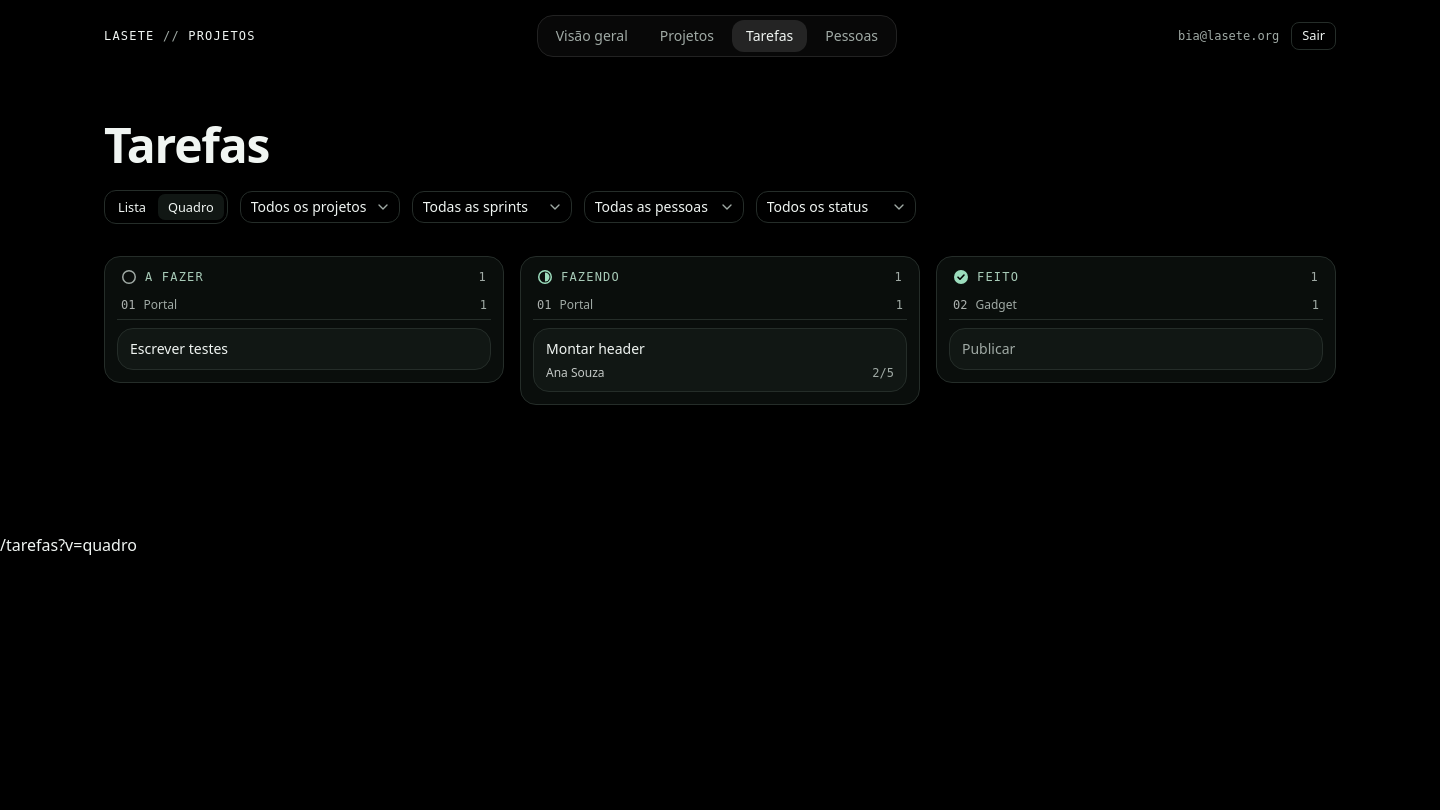
Test case: Tarefas › clicar numa tarefa abre o painel com ?t e fechar remove
Click the button "Montar header Ana Souza 2/5": click(595, 349) [533,328,907,392]
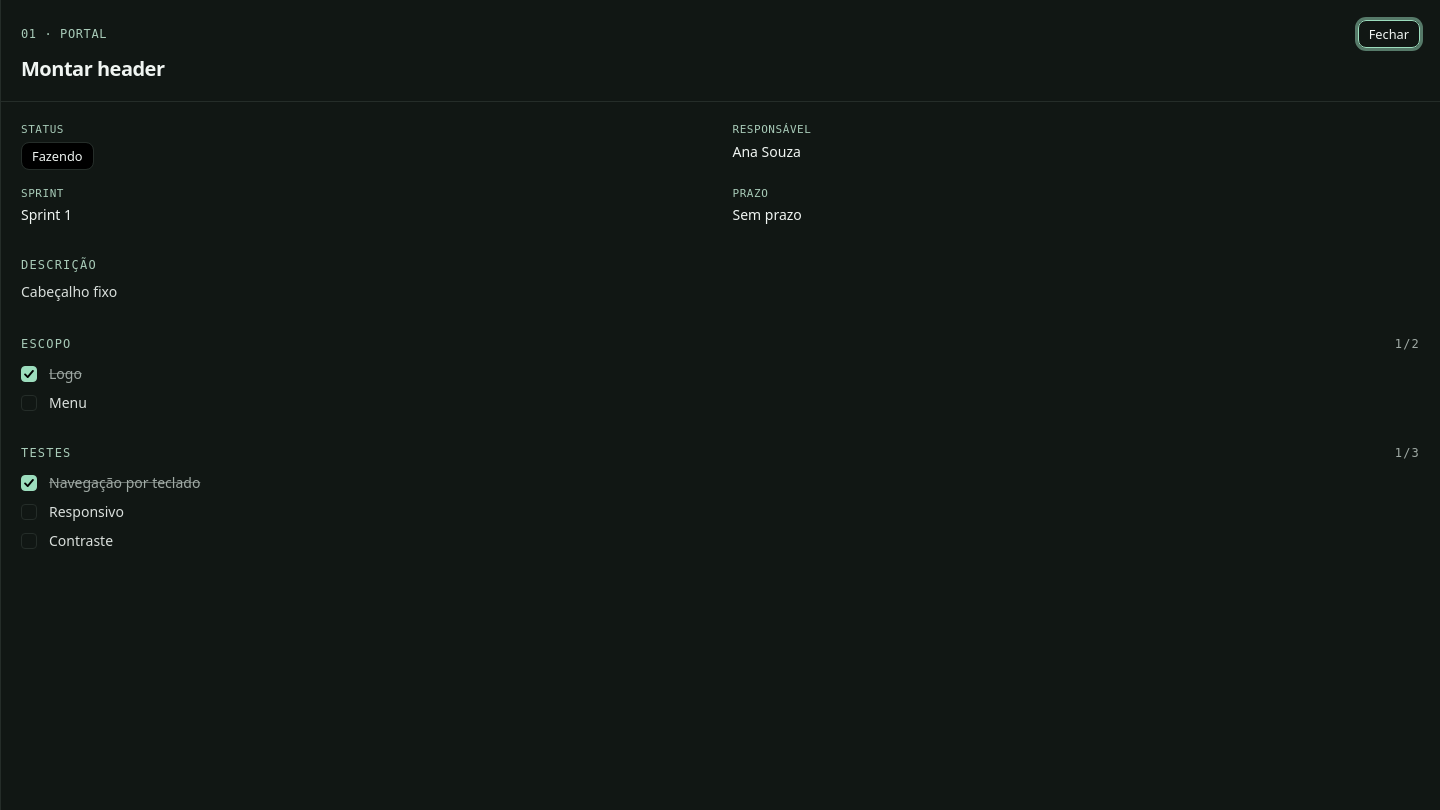
Check: the text with test id "where" reads "/tarefas?v=quadro&t=t1", box [0,534,178,556]
Check: the text "Cabeçalho fixo" is shown, box [21,282,117,301]
Check: the element "Escopo" shows "1/2", box [21,336,1420,413]
Click the button "Fechar": click(1389, 34) [1358,20,1420,48]
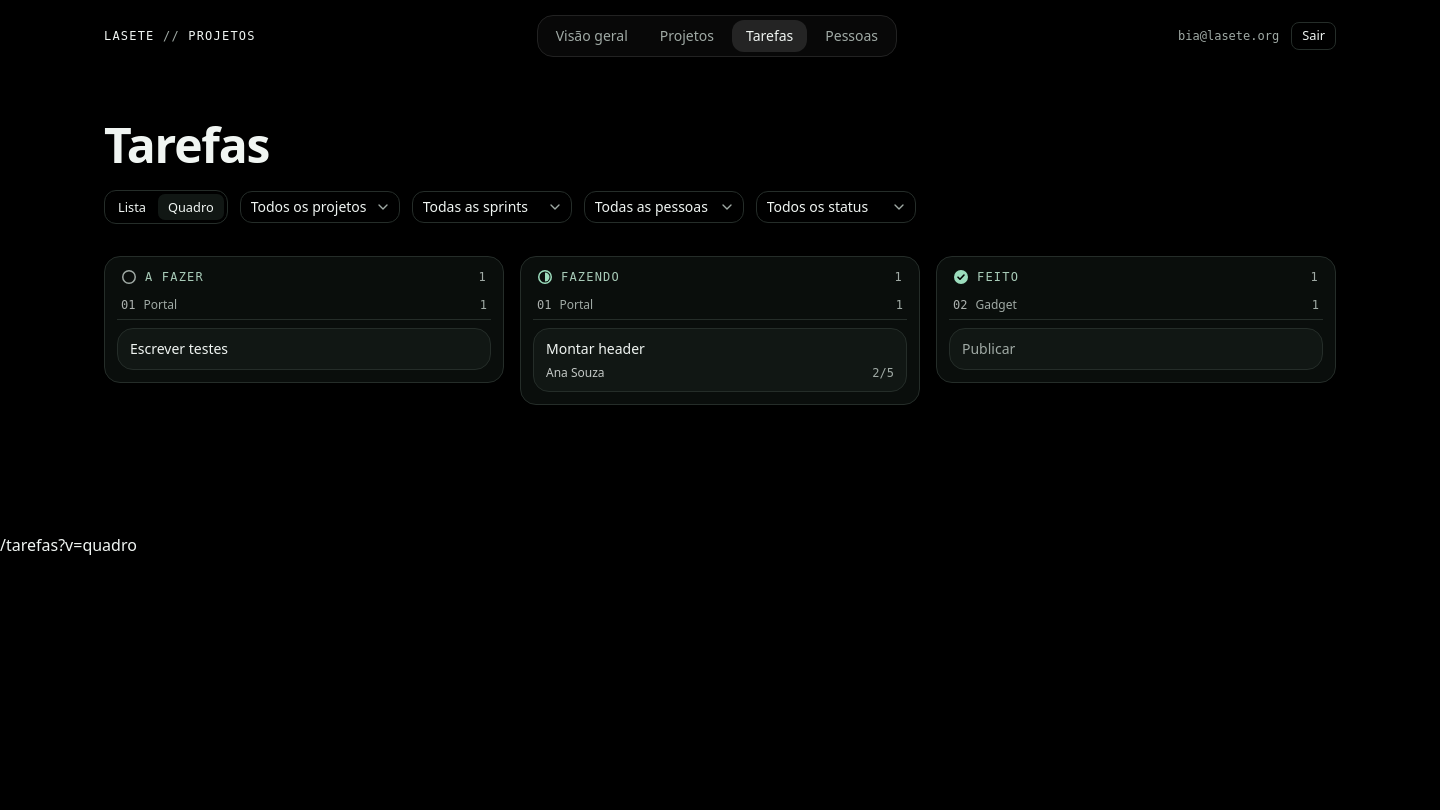
Check: the dialog is gone
Check: the text with test id "where" reads "/tarefas?v=quadro", box [0,534,137,556]
